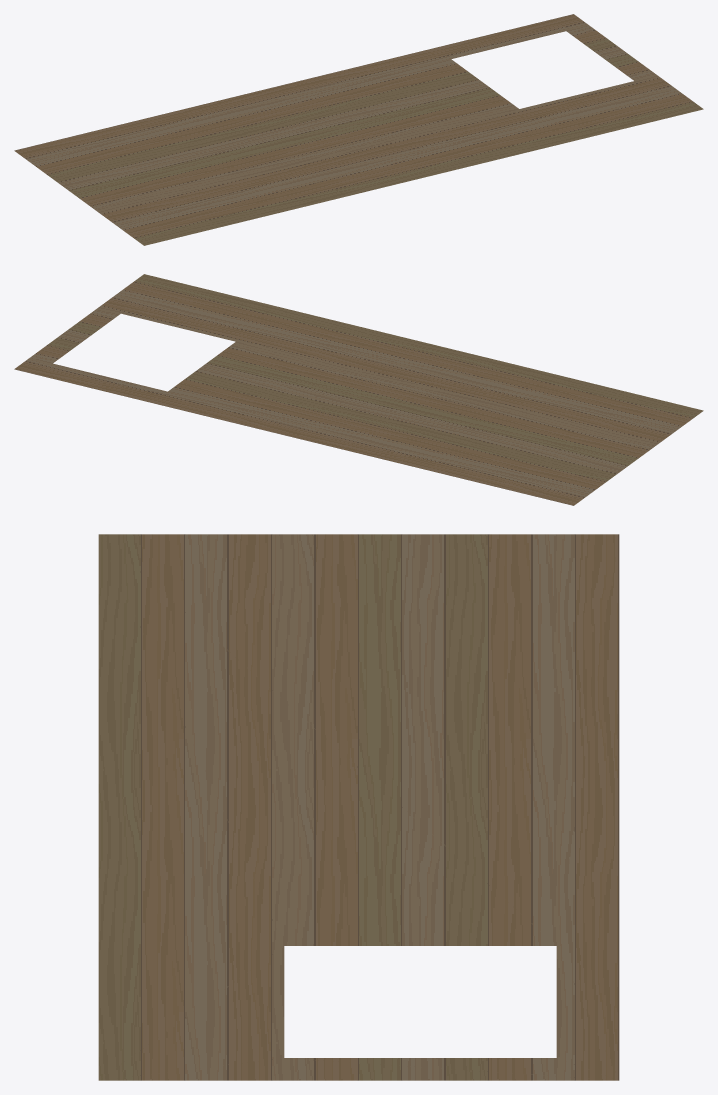
Rendered from kd_stage_135b75_4_22_bounded_portal_piece_0.glb.
The picture shows the model from 3 angles, top to bottom: view 1: azimuth 30°, elevation 25°; view 2: azimuth 150°, elevation 25°; view 3: azimuth 270°, elevation 25°; orthographic projection. The views are drawn at different scales.
Parts seen in each view (by area): view 1: kd_stage_135b75_4_22_bounded_portal_piece_0; view 2: kd_stage_135b75_4_22_bounded_portal_piece_0; view 3: kd_stage_135b75_4_22_bounded_portal_piece_0.
Boxes of the visible parts, <box> form: kd_stage_135b75_4_22_bounded_portal_piece_0: <box>14,14,703,245</box>; kd_stage_135b75_4_22_bounded_portal_piece_0: <box>14,274,703,505</box>; kd_stage_135b75_4_22_bounded_portal_piece_0: <box>98,534,619,1080</box>.
Size of the model in its own units: 1.82 by 0 by 0.7311.
Materials: 1 (1 with a texture image).
